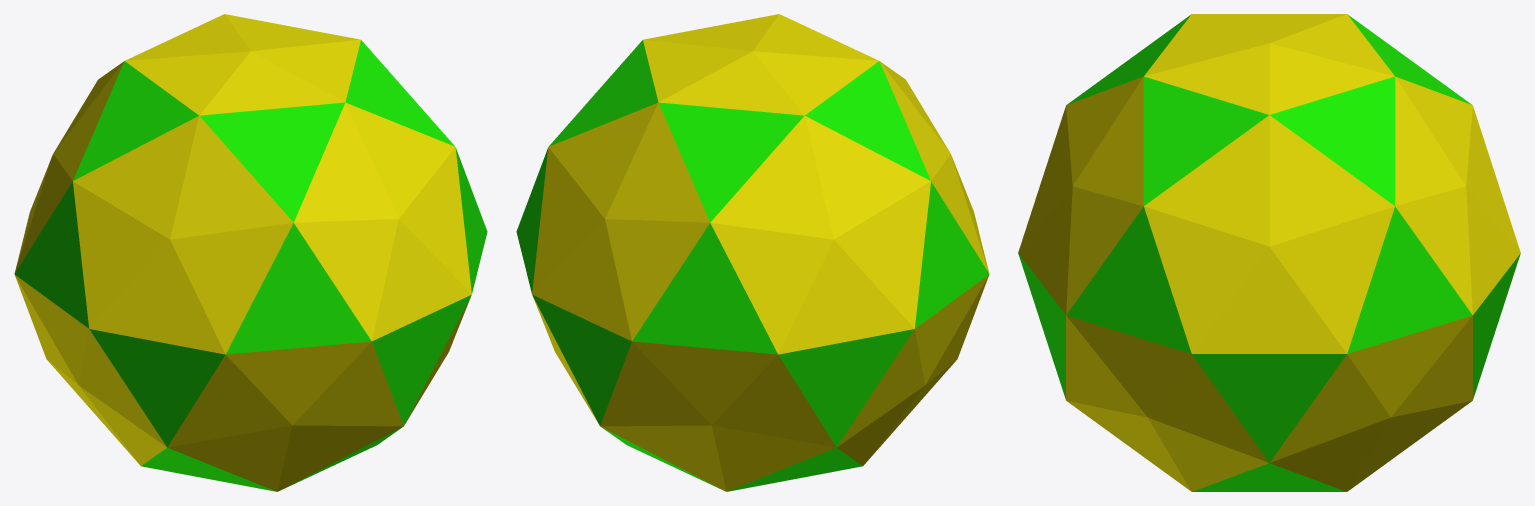
3 renders of one model, left to right at view 1: azimuth 30°, elevation 25°; view 2: azimuth 150°, elevation 25°; view 3: azimuth 270°, elevation 25°, orthographic. The views are drawn at different scales.
Parts seen in each view (by area): view 1: Icosphere_2f; view 2: Icosphere_2f; view 3: Icosphere_2f.
Boxes of the visible parts, x1,y1,x2,y2 form: Icosphere_2f: (14, 14, 487, 491); Icosphere_2f: (516, 14, 989, 491); Icosphere_2f: (1018, 14, 1520, 491).
Size of the model in its own units: 1.9 by 1.84 by 2.
